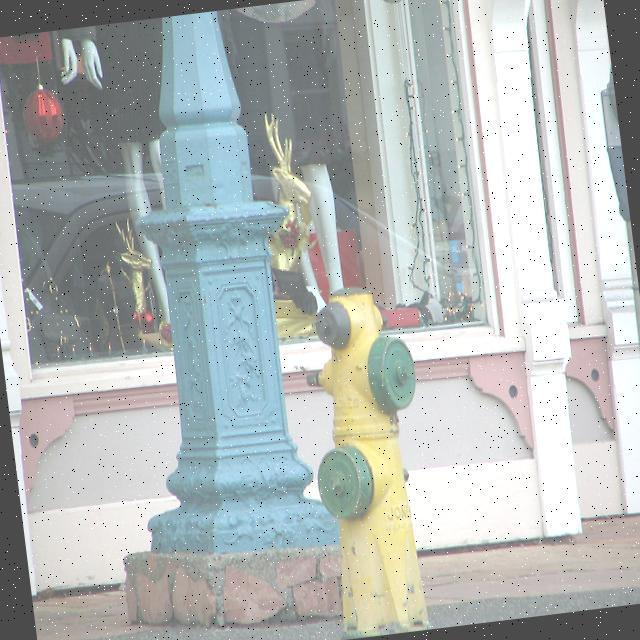fire_hydrant: (288, 276, 446, 634)
